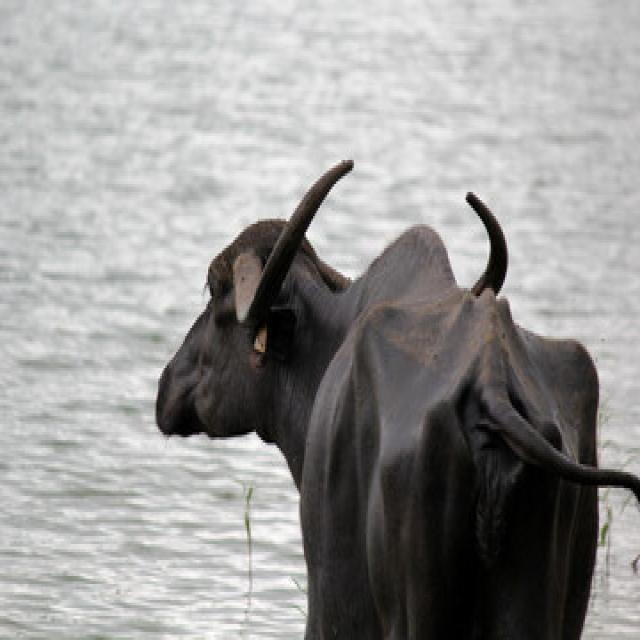Buffalo: (153, 152, 638, 637)
